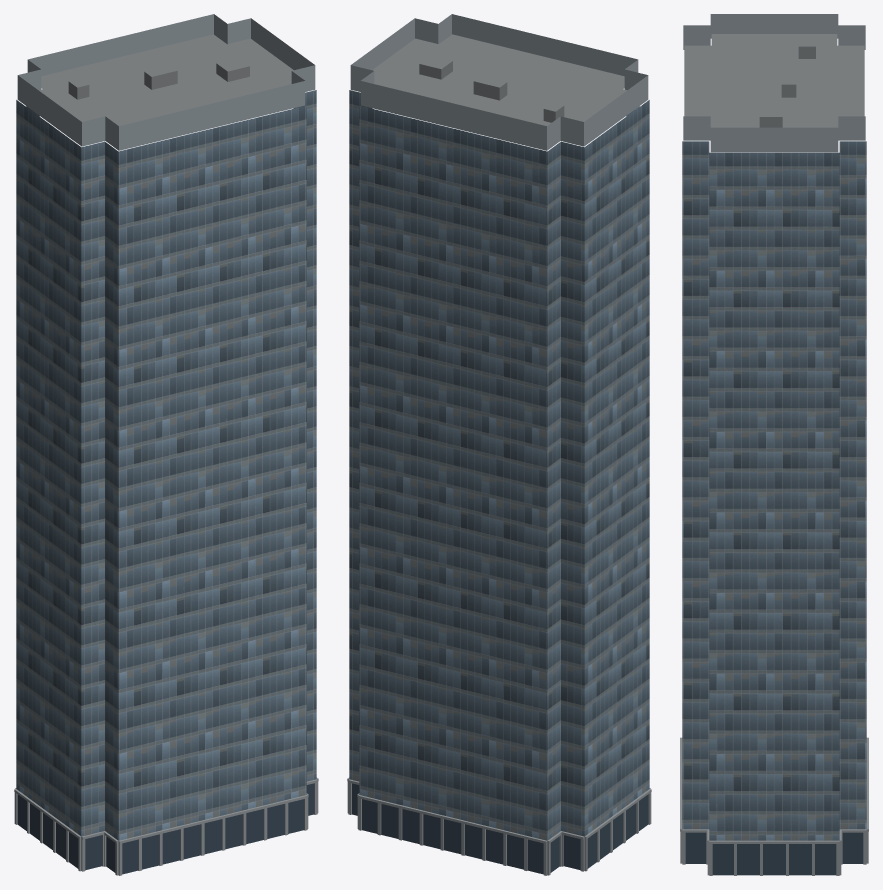
The model's file is amazon_day1.glb.
3 renders of one model, left to right at view 1: azimuth 30°, elevation 25°; view 2: azimuth 150°, elevation 25°; view 3: azimuth 270°, elevation 25°, orthographic.
Parts seen in each view (by area): view 1: amazon_day1; view 2: amazon_day1; view 3: amazon_day1.
Part boxes in pixels (x1,y1,x2,y2): amazon_day1: (14,14,318,875); amazon_day1: (347,14,651,875); amazon_day1: (680,14,868,875).
Size of the model in its own units: 50.81 by 152 by 34.79.
Materials: 2 (2 with a texture image).
